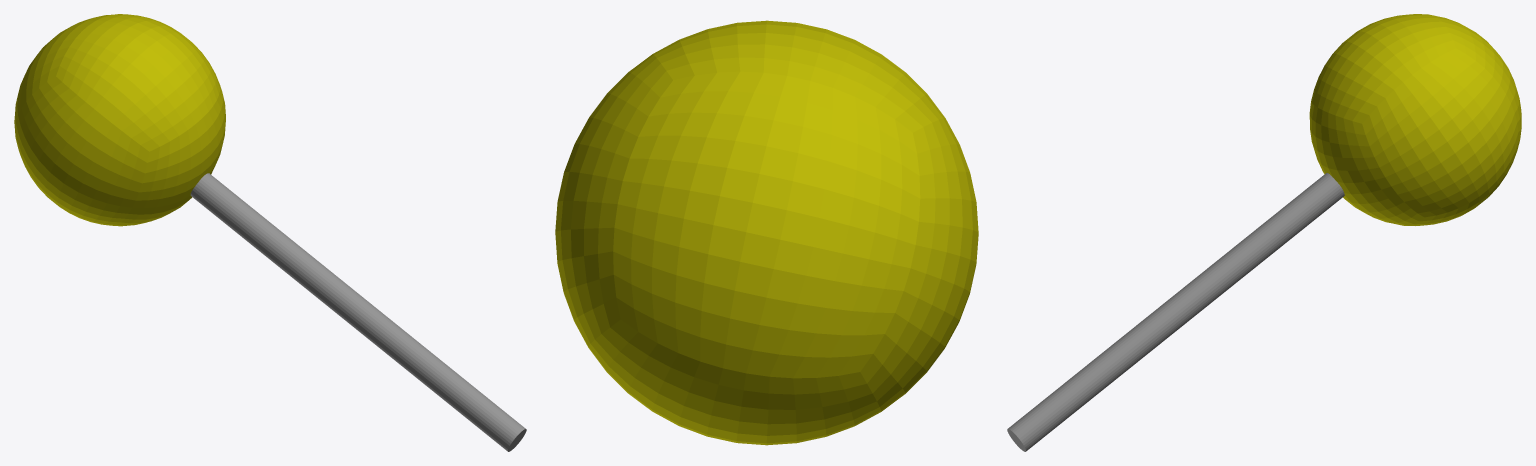
File: stecknadel Griechenland.glb
3 renders of one model, left to right at view 1: azimuth 30°, elevation 25°; view 2: azimuth 150°, elevation 25°; view 3: azimuth 270°, elevation 25°, orthographic. The views are drawn at different scales.
Parts seen in each view (by area): view 1: Zylinder; view 2: Zylinder; view 3: Zylinder.
Part boxes in pixels (x1,y1,x2,y2): Zylinder: (14, 14, 526, 451); Zylinder: (555, 20, 978, 445); Zylinder: (1007, 14, 1521, 451).
Size of the model in its own units: 0.1489 by 0.1563 by 0.2201.
